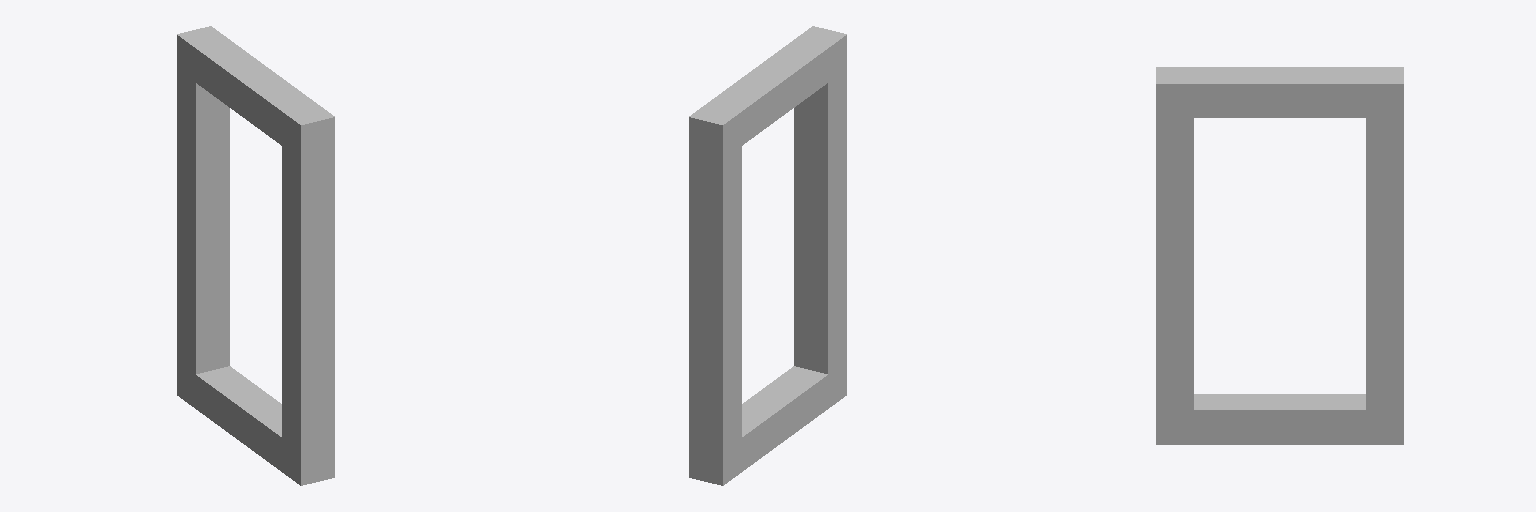
The model's file is detail_013.obj.
3 views of the same model, side by side, from view 1: azimuth 30°, elevation 25°; view 2: azimuth 150°, elevation 25°; view 3: azimuth 270°, elevation 25° (orthographic).
Visible parts, largest first — view 1: detail_013; view 2: detail_013; view 3: detail_013.
Boxes of the visible parts, x1,y1,x2,y2 form: detail_013: [177, 26, 334, 485]; detail_013: [689, 26, 846, 485]; detail_013: [1156, 67, 1403, 444].
Bounding box in the file's own units: 0.05 × 0.5 × 0.3125.